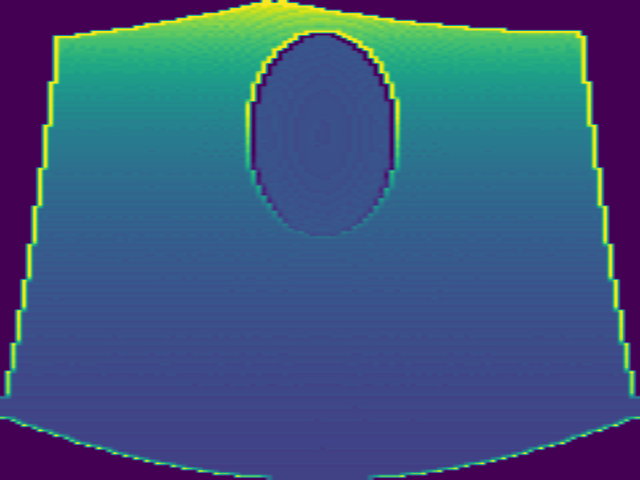sphere: (244, 32, 399, 241)
